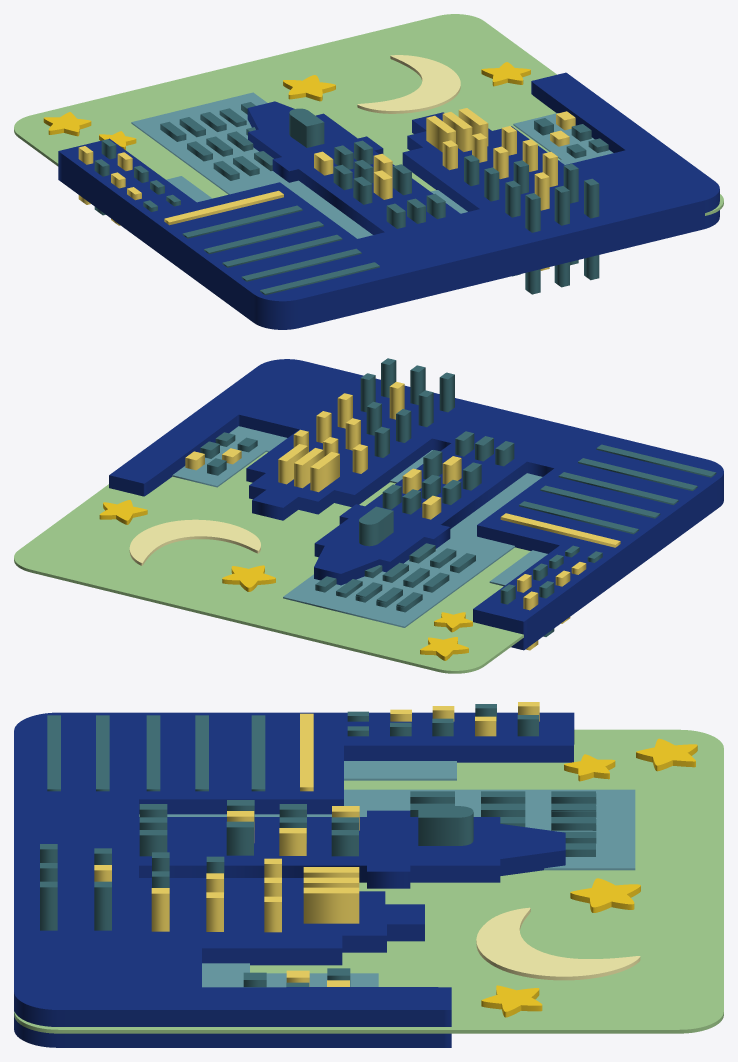
The model's file is emoji_u1f303.glb.
3 renders of one model, top to bottom at view 1: azimuth 30°, elevation 25°; view 2: azimuth 150°, elevation 25°; view 3: azimuth 270°, elevation 25°, orthographic. The views are drawn at different scales.
Parts seen in each view (by area): view 1: emoji_u1f303; view 2: emoji_u1f303; view 3: emoji_u1f303.
Part boxes in pixels (box(x1,y1,x2,y2)): emoji_u1f303: box(14, 14, 723, 329); emoji_u1f303: box(14, 358, 723, 673); emoji_u1f303: box(14, 702, 723, 1047).
Size of the model in its own units: 0.034 by 0.0066 by 0.034.
